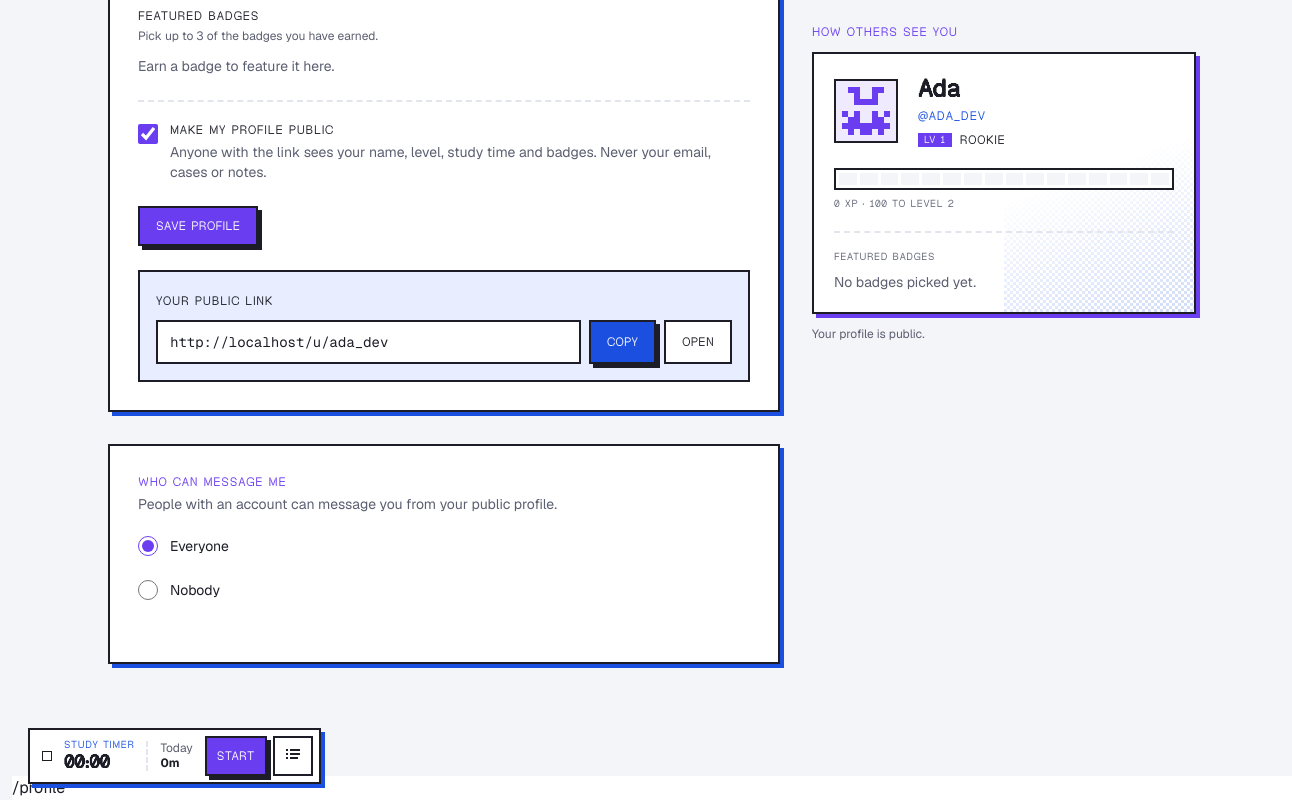
Test: saves who can message me from the profile page
(page scrolled)
Expected: the radio button labelled "Everyone" is checked, [138, 536, 158, 556]
Click the radio button labelled "Nobody" at (148, 590), box [138, 580, 158, 600]
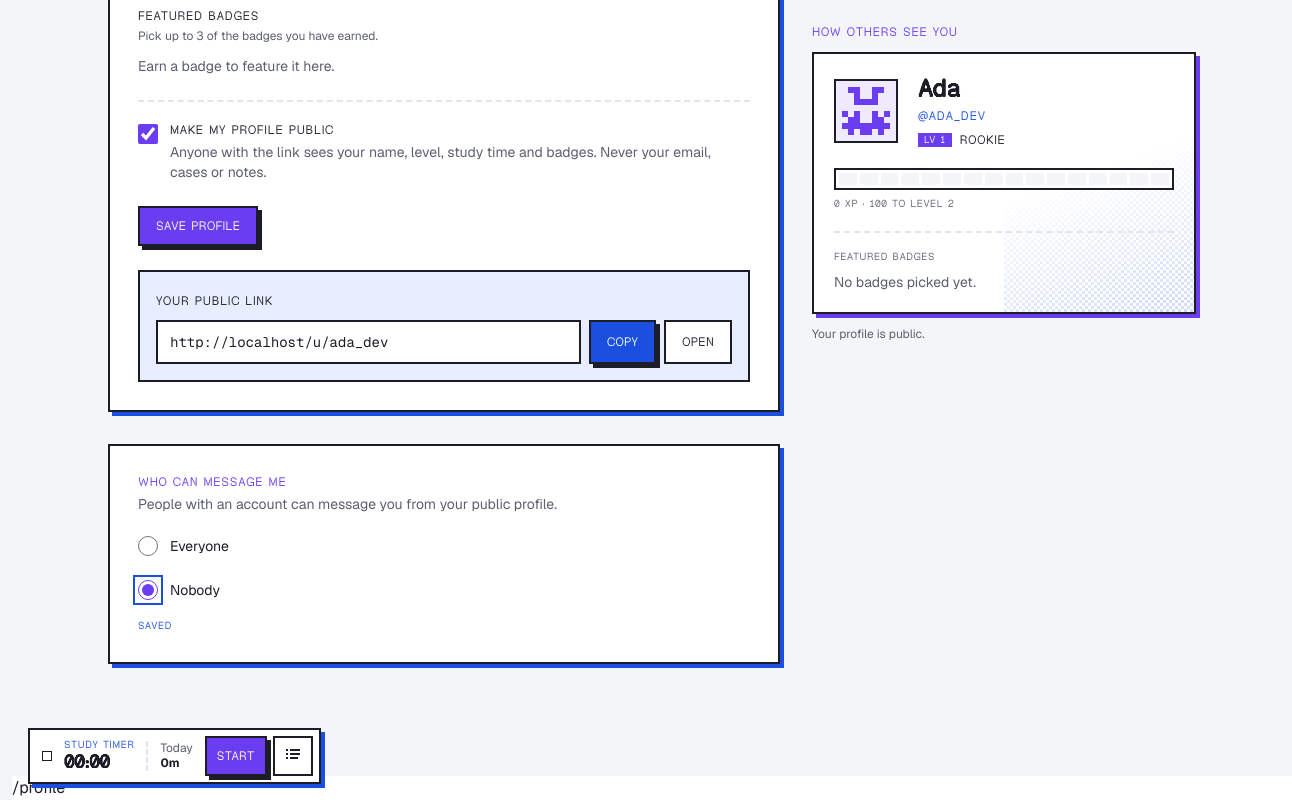
Now the radio button labelled "Nobody" is checked, box [138, 580, 158, 600]
Now the text "Saved" is shown, box [138, 619, 172, 632]
